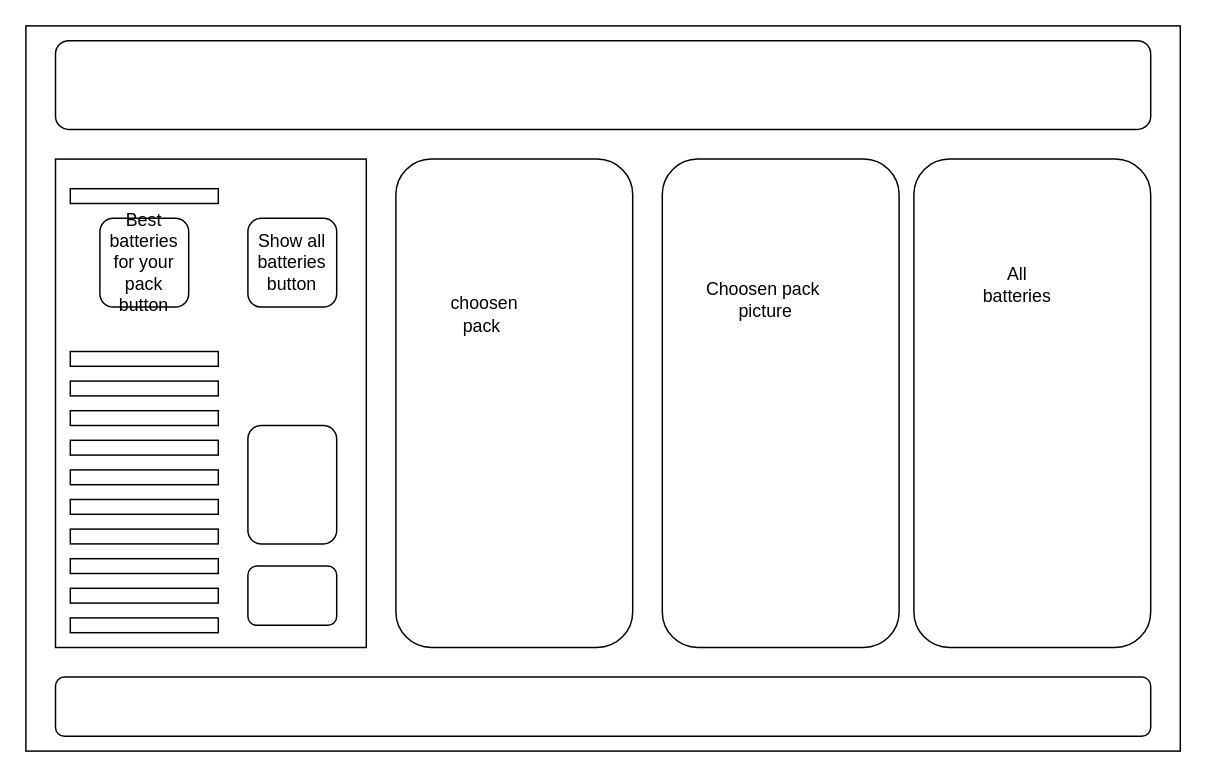
Some shapes in this 1206 by 777 pixel diagram are drawn without their labels. Each missing label, with the box of its shape:
delete your pack button: (246, 565, 337, 625)
Submit your capacities button: (246, 424, 337, 544)
